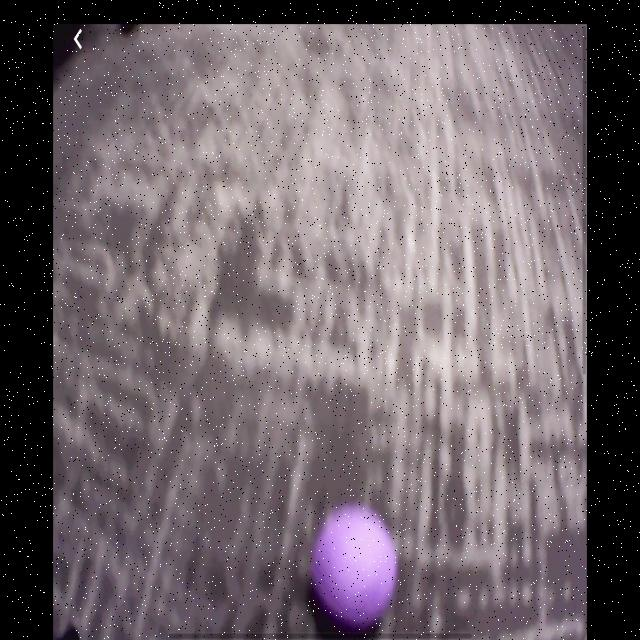ball: (310, 502, 400, 631)
